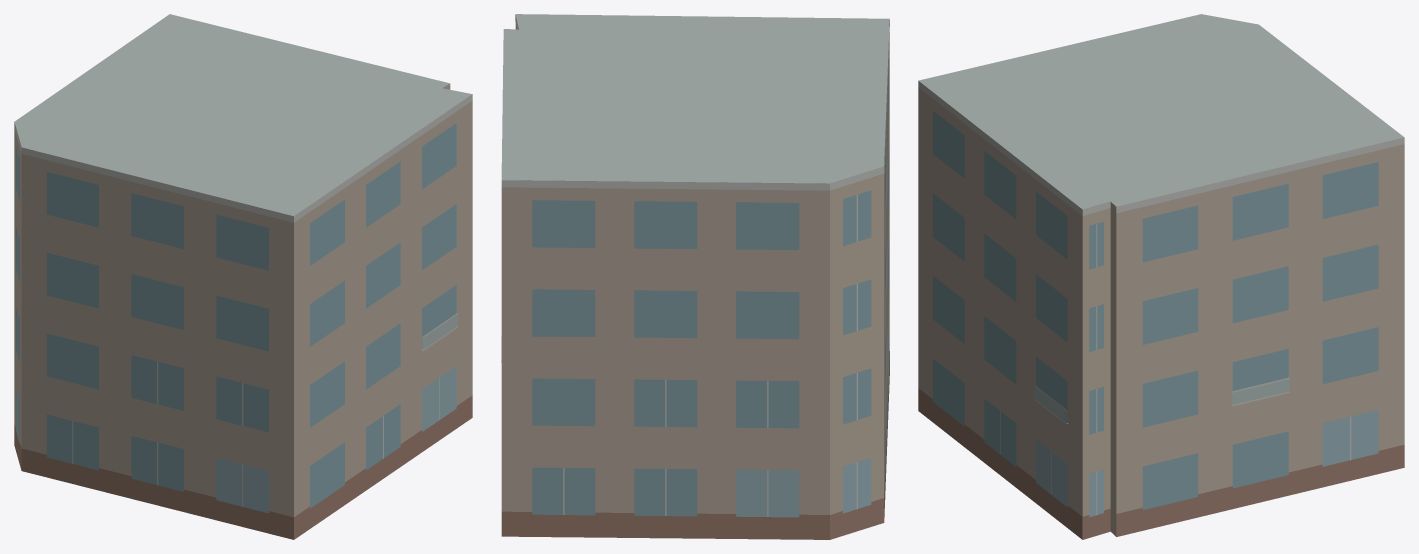
Rendered from survey-upis-32666441.glb.
The picture shows the model from 3 angles, left to right: view 1: azimuth 30°, elevation 25°; view 2: azimuth 150°, elevation 25°; view 3: azimuth 270°, elevation 25°; orthographic projection. The views are drawn at different scales.
Visible parts, largest first — view 1: survey-upis-32666441.tmp; view 2: survey-upis-32666441.tmp; view 3: survey-upis-32666441.tmp.
Boxes of the visible parts, x1,y1,x2,y2 form: survey-upis-32666441.tmp: (14, 14, 472, 539); survey-upis-32666441.tmp: (501, 14, 889, 539); survey-upis-32666441.tmp: (918, 14, 1404, 539).
Bounding box in the file's own units: 15.5 × 12.2 × 16.29.
